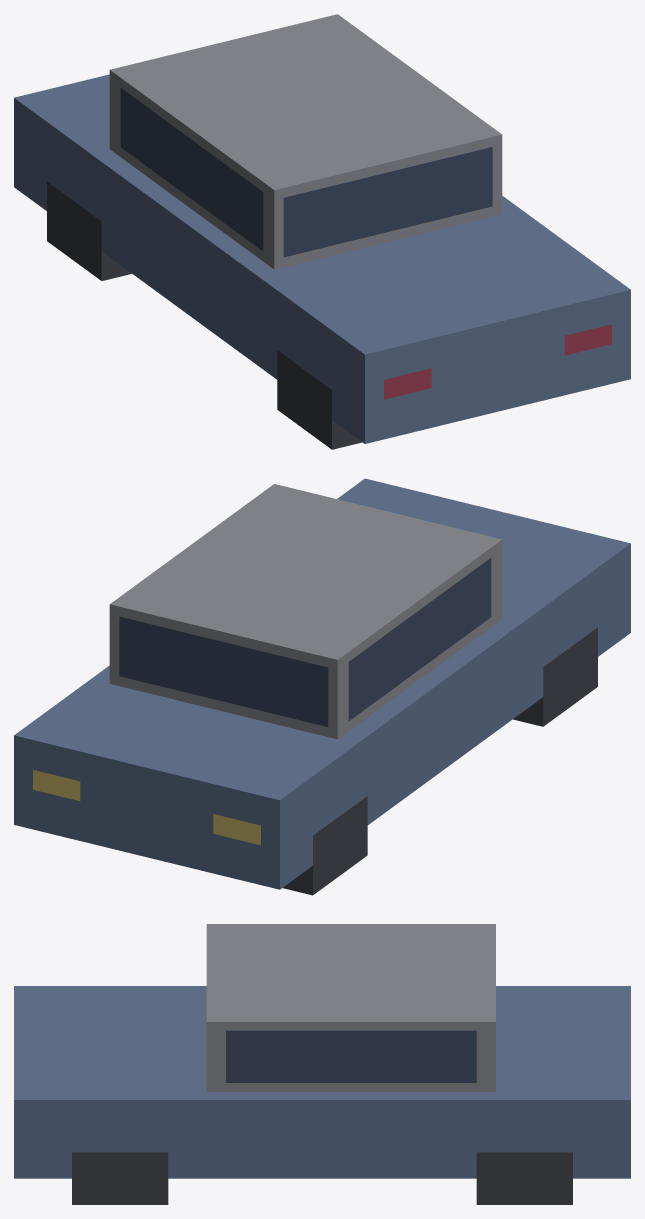
Rendered from voiture_bleue.glb.
3 renders of one model, top to bottom at view 1: azimuth 30°, elevation 25°; view 2: azimuth 150°, elevation 25°; view 3: azimuth 270°, elevation 25°, orthographic. The views are drawn at different scales.
Visible parts, largest first — view 1: main; view 2: main; view 3: main.
Part boxes in pixels (left/top/right/bottom): main: left=14, top=14, right=630, bottom=449; main: left=14, top=478, right=630, bottom=895; main: left=14, top=924, right=630, bottom=1204.
Bounding box in the file's own units: 1.75 × 1.25 × 4.
